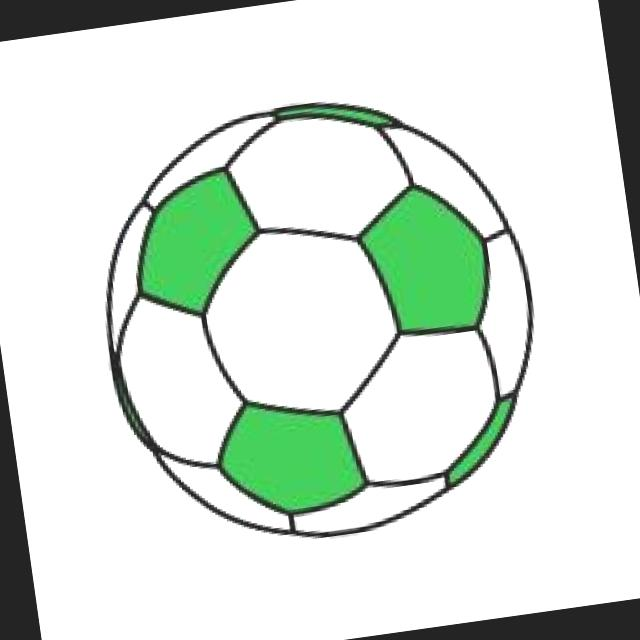Soccer Ball: (78, 69, 558, 566)
